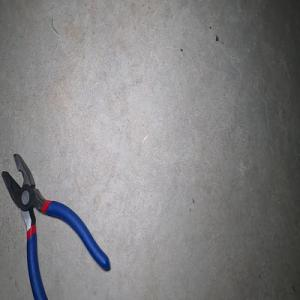Pliers: (1, 153, 110, 300)
